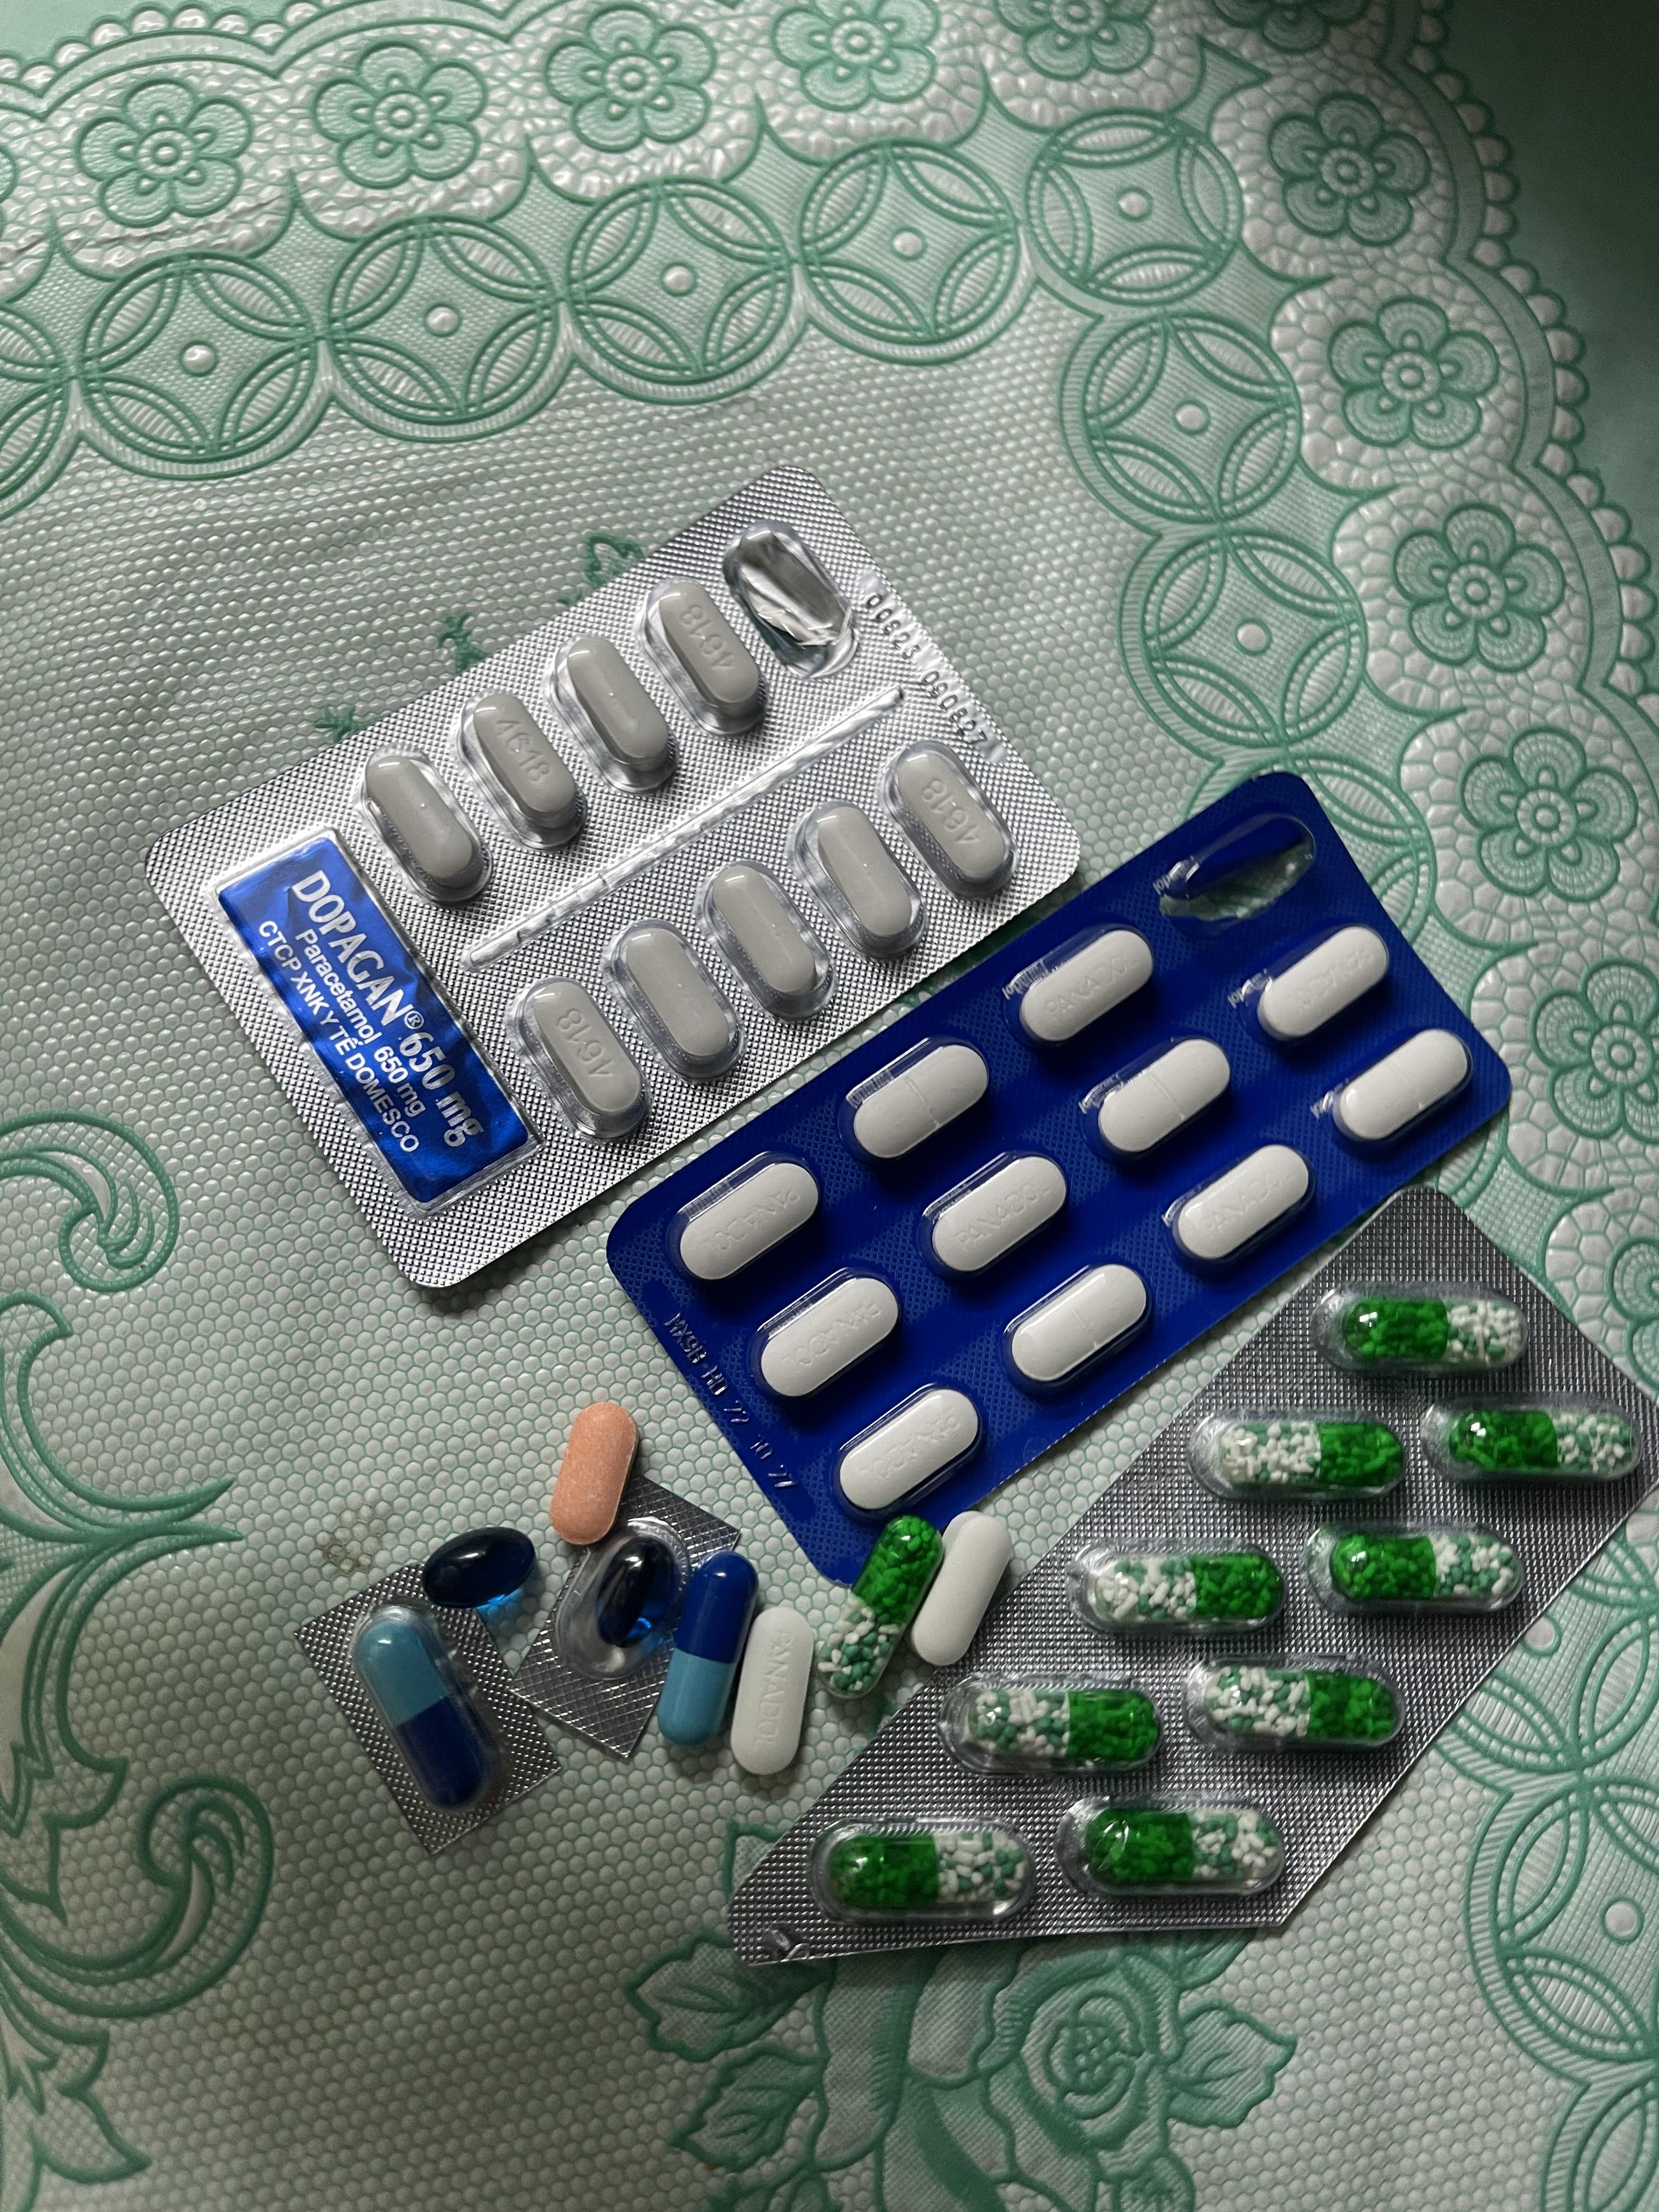Lincomyxin_500mg: (421, 1527, 538, 1627), (593, 1539, 675, 1649)
Loratadine_10mg: (551, 1406, 640, 1540)
Paracetamol_350mg: (1089, 1034, 1235, 1166), (1324, 1028, 1475, 1154), (846, 1029, 990, 1161), (835, 1391, 980, 1521), (1168, 1145, 1314, 1274), (755, 1271, 898, 1403), (925, 1149, 1067, 1279), (673, 1154, 814, 1280), (1010, 1262, 1149, 1389), (1003, 923, 1144, 1046), (1253, 924, 1391, 1043), (727, 1604, 811, 1776)
Paracetamol_500mg: (510, 975, 648, 1138), (640, 577, 772, 742), (551, 632, 684, 794), (606, 919, 742, 1079), (700, 861, 833, 1021), (457, 692, 590, 850), (356, 752, 490, 906), (793, 802, 921, 961), (884, 739, 1013, 895), (910, 1514, 1011, 1666)
Paracetamol_650mg: (814, 1520, 937, 1695), (829, 1830, 1030, 1912), (1085, 1805, 1270, 1884), (1204, 1671, 1393, 1745), (974, 1686, 1153, 1763), (1324, 1531, 1512, 1603), (1211, 1421, 1393, 1493), (1088, 1554, 1271, 1624), (1441, 1409, 1633, 1475), (1340, 1299, 1526, 1365)
pill: (348, 1600, 506, 1816), (657, 1556, 758, 1752)
